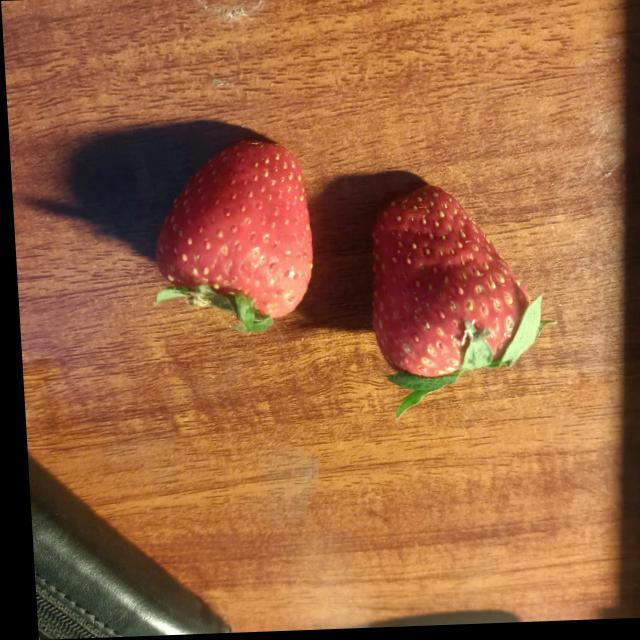DauTay: (338, 173, 593, 416), (123, 84, 309, 358)
